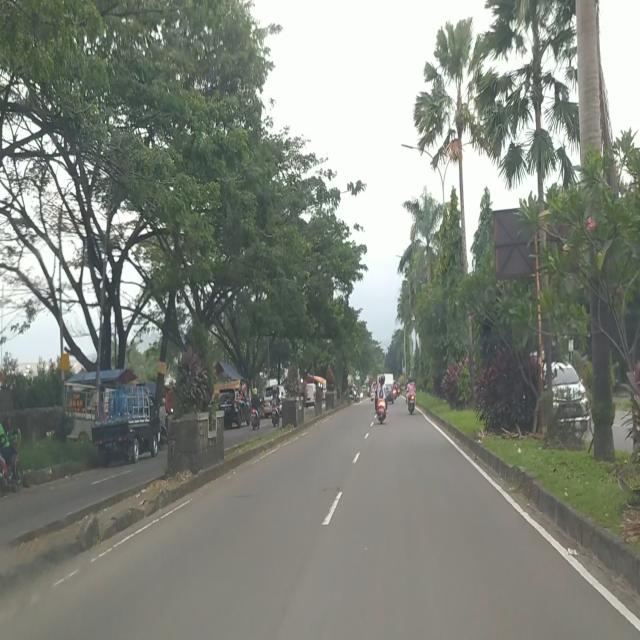Sewer Cover: (234, 492, 254, 499)
